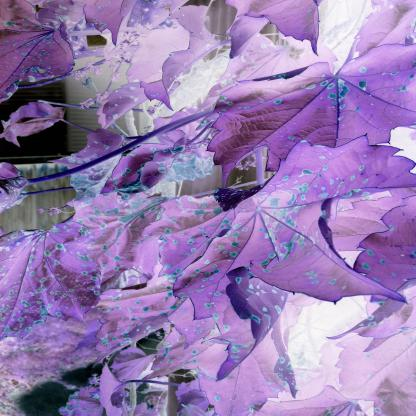grape leaf black rot: (168, 142, 411, 319), (213, 45, 413, 181), (0, 213, 102, 349), (124, 7, 216, 117), (209, 268, 282, 382), (90, 283, 183, 372), (0, 0, 75, 103), (349, 193, 416, 298), (113, 144, 197, 200), (97, 81, 156, 130)
